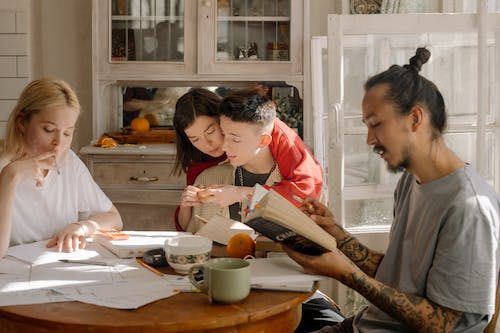cigarette: (292, 192, 313, 210), (52, 154, 61, 176)
